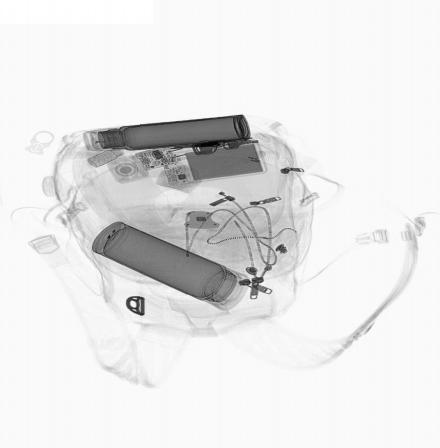Powerbank: (155, 140, 270, 185)
